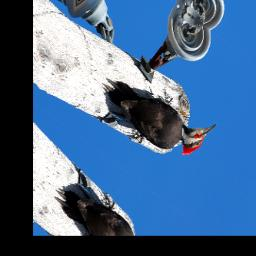Woodpecker: (90, 46, 220, 189)
